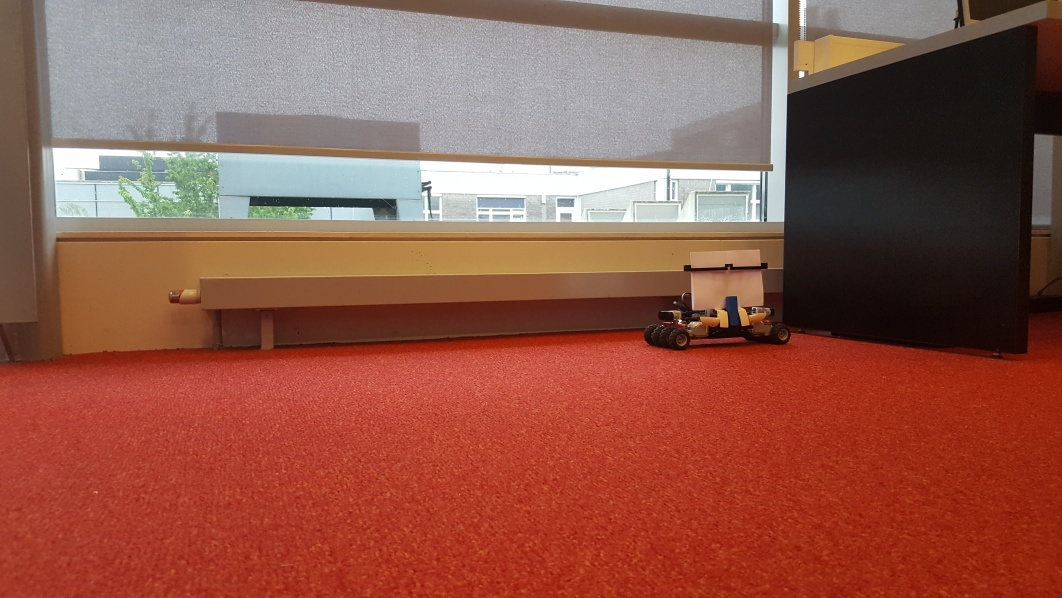car: (642, 244, 794, 354)
